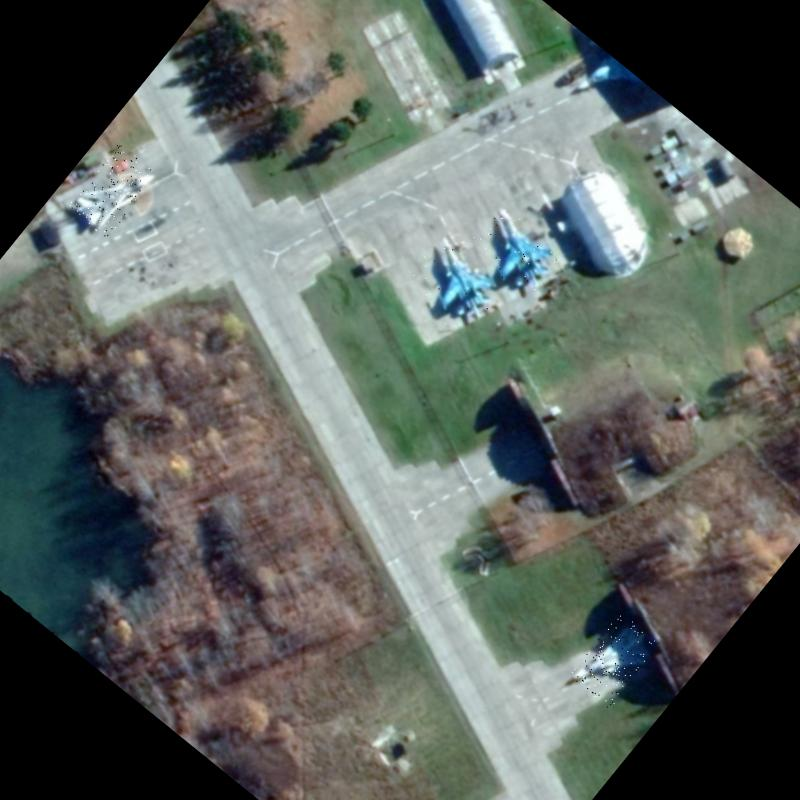A19: (404, 232, 508, 332), (463, 200, 566, 300)
A20: (568, 612, 661, 710), (66, 142, 158, 239)
